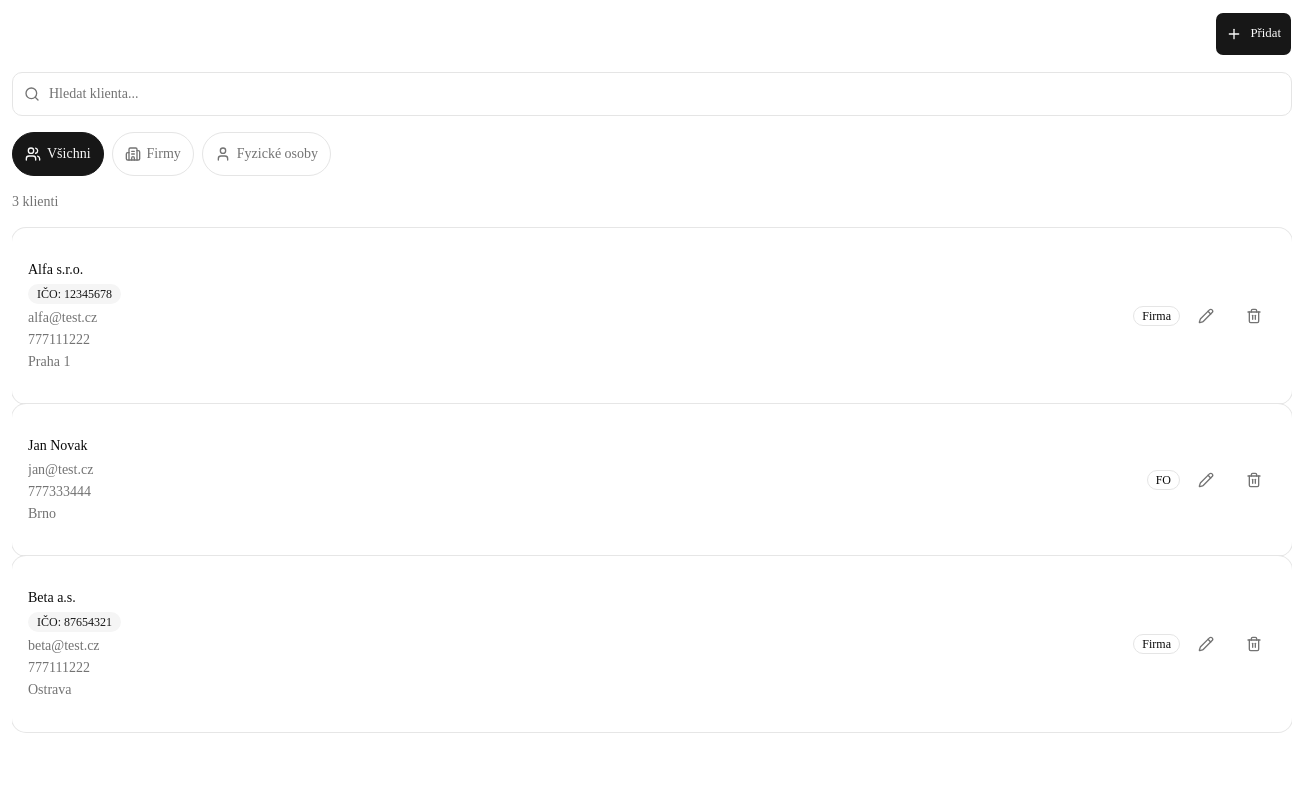
Test case: KlientiList › filters by typ fyzicka_osoba
Click the button "Fyzické osoby" at (266, 154), box [202,132,331,176]
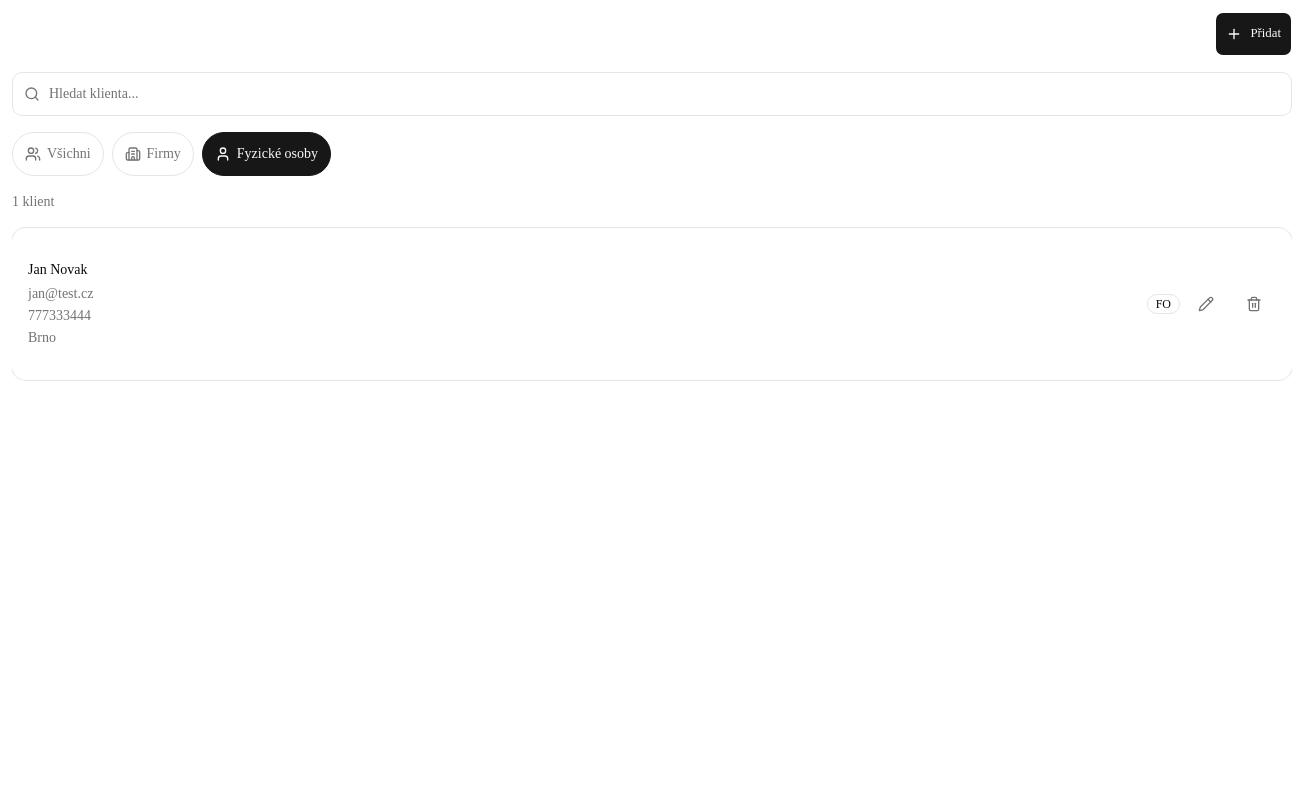
Expected: the text "Jan Novak" is shown, [28,262,88,277]
Result: the link "Alfa s.r.o." is gone
